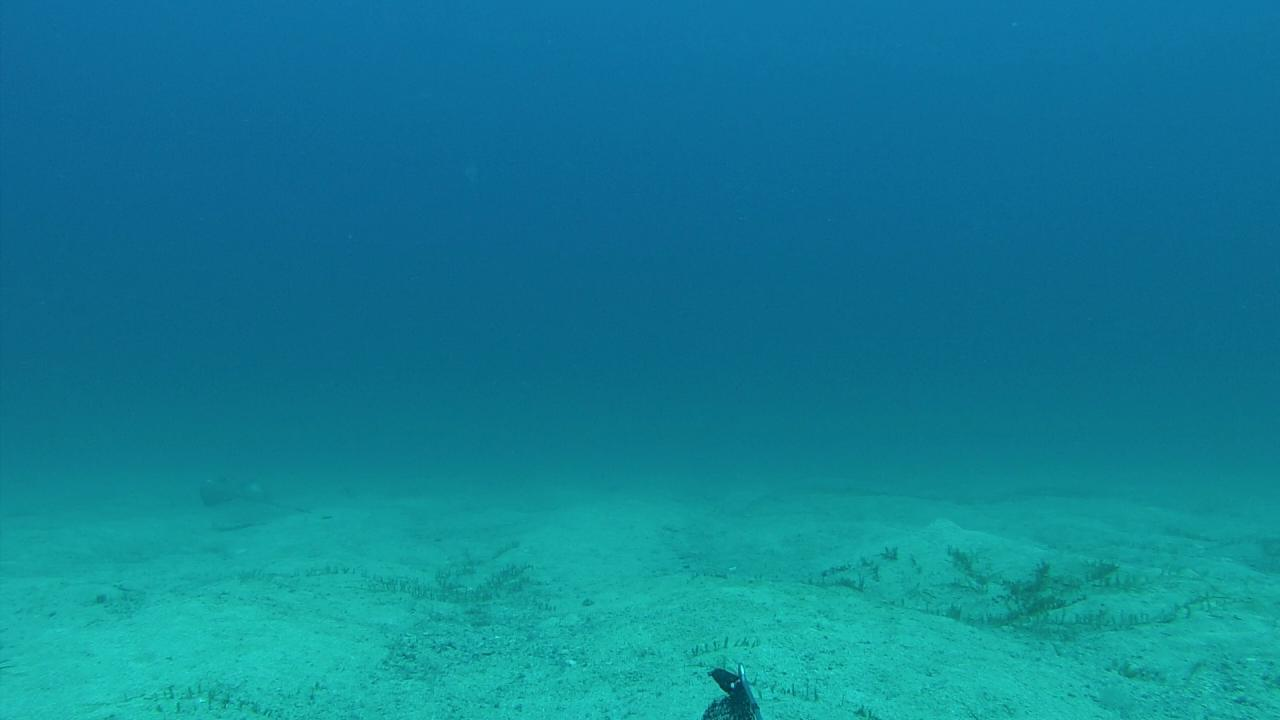dasyatis: (198, 476, 318, 512)
